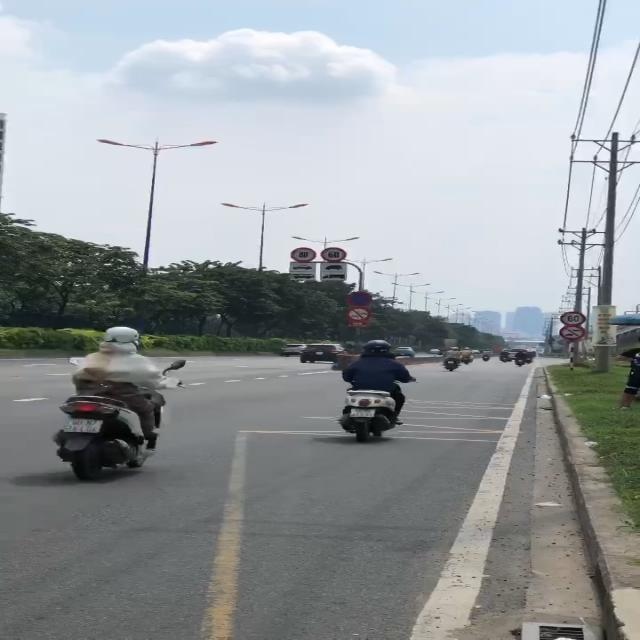Bien bao toc do toi da cho phep: (556, 310, 588, 326), (318, 246, 349, 262)
